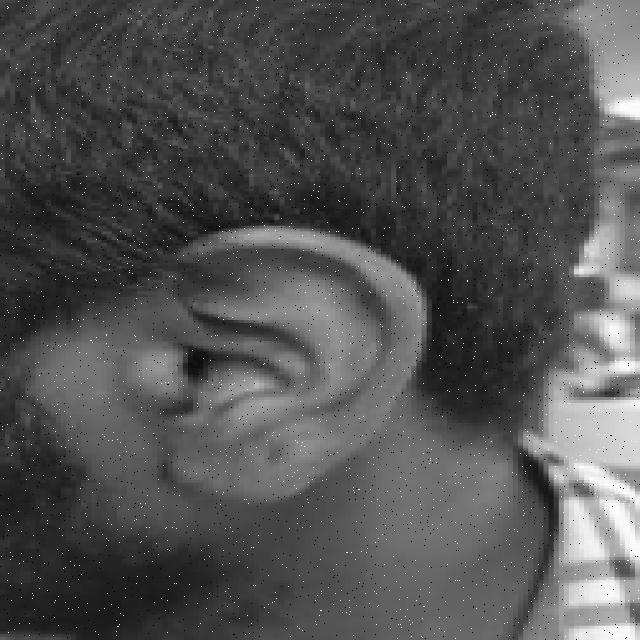ear: (152, 226, 411, 500), (137, 360, 163, 406)
